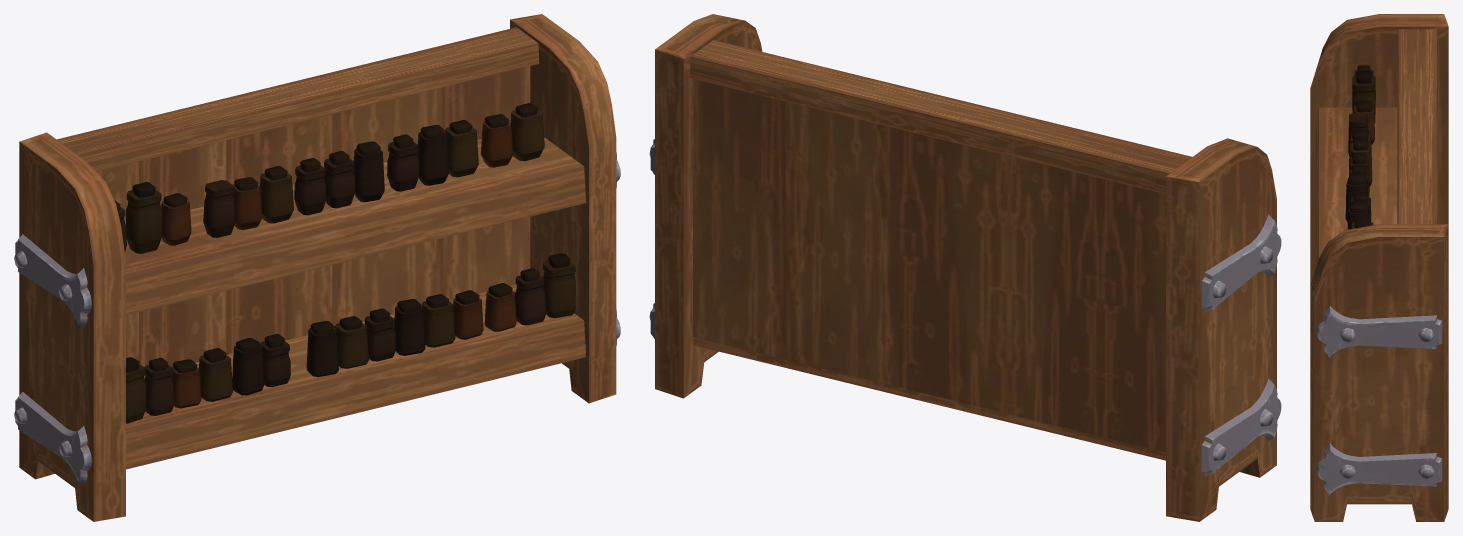
The model's file is Shelf Small Bottles.glb.
3 views of the same model, side by side, from view 1: azimuth 30°, elevation 25°; view 2: azimuth 150°, elevation 25°; view 3: azimuth 270°, elevation 25° (orthographic). The views are drawn at different scales.
Visible parts, largest first — view 1: Shelf_Small_Bottles; view 2: Shelf_Small_Bottles; view 3: Shelf_Small_Bottles.
Part boxes in pixels (x1,y1,x2,y2): Shelf_Small_Bottles: (14,14,620,521); Shelf_Small_Bottles: (649,14,1281,521); Shelf_Small_Bottles: (1310,14,1448,521).
Bounding box in the file's own units: 1.14 × 0.6474 × 0.2846.
3 materials, 3 textured.
